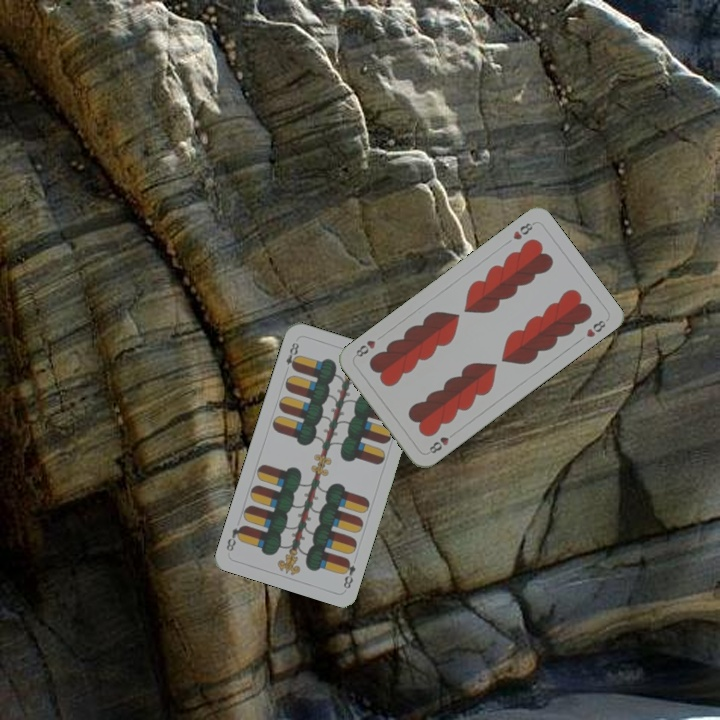E8: (338, 555, 358, 591), (282, 338, 302, 372)
H8: (425, 429, 458, 456), (509, 218, 537, 242)
